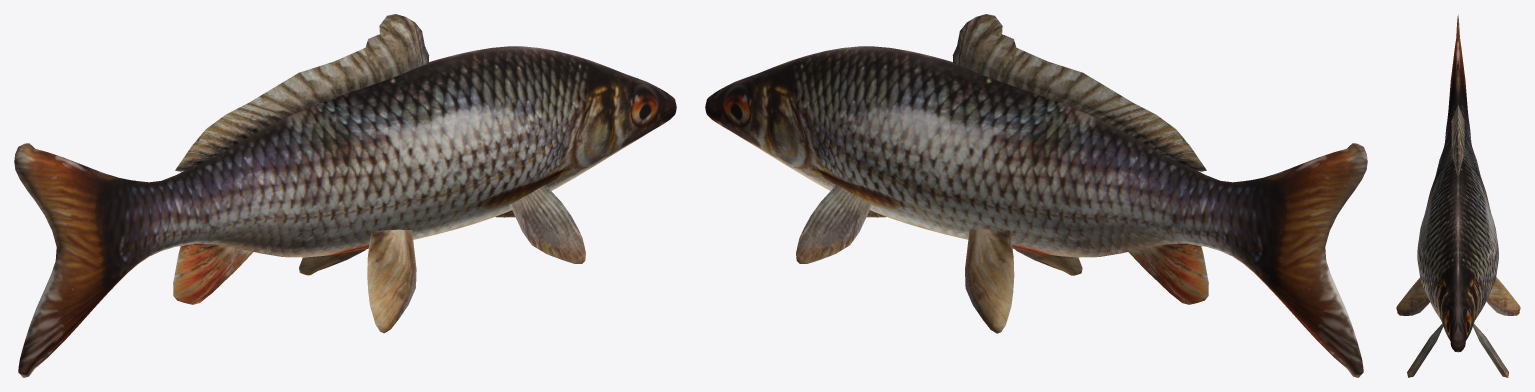
The model's file is FIsh 2.fbx.
The picture shows the model from 3 angles, left to right: view 1: azimuth 30°, elevation 25°; view 2: azimuth 150°, elevation 25°; view 3: azimuth 270°, elevation 25°; orthographic projection. The views are drawn at different scales.
Visible parts, largest first — view 1: Fish_2; view 2: Fish_2; view 3: Fish_2.
Part boxes in pixels (x1,y1,x2,y2): Fish_2: (14,14,676,377); Fish_2: (705,14,1367,377); Fish_2: (1396,14,1520,377).
Size of the model in its own units: 11.79 by 4.73 by 2.54.
1 material, 1 textured.
